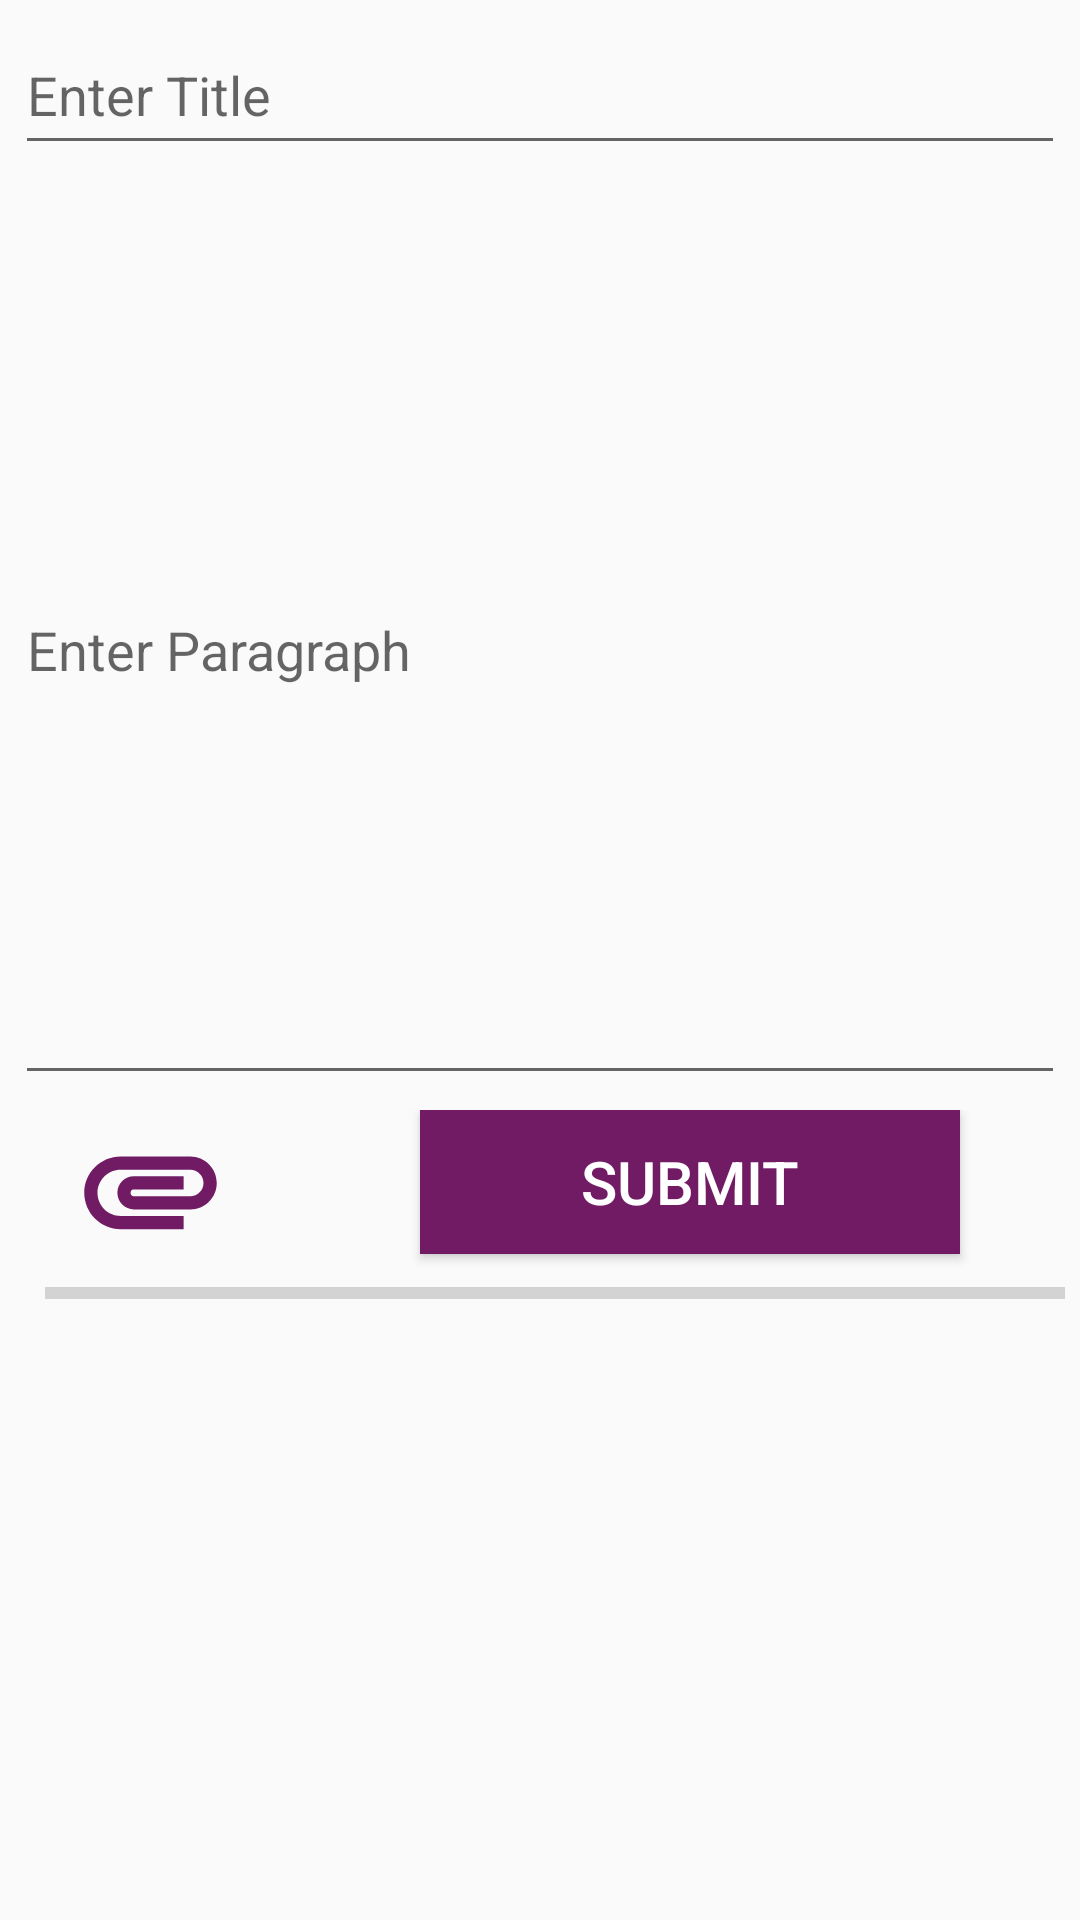

Icon bounding boxes for this 1080 x 1920 phone screenshot, format bbox=[x1, y1, x2, y2]:
attachment: bbox=[84, 1156, 217, 1230]
